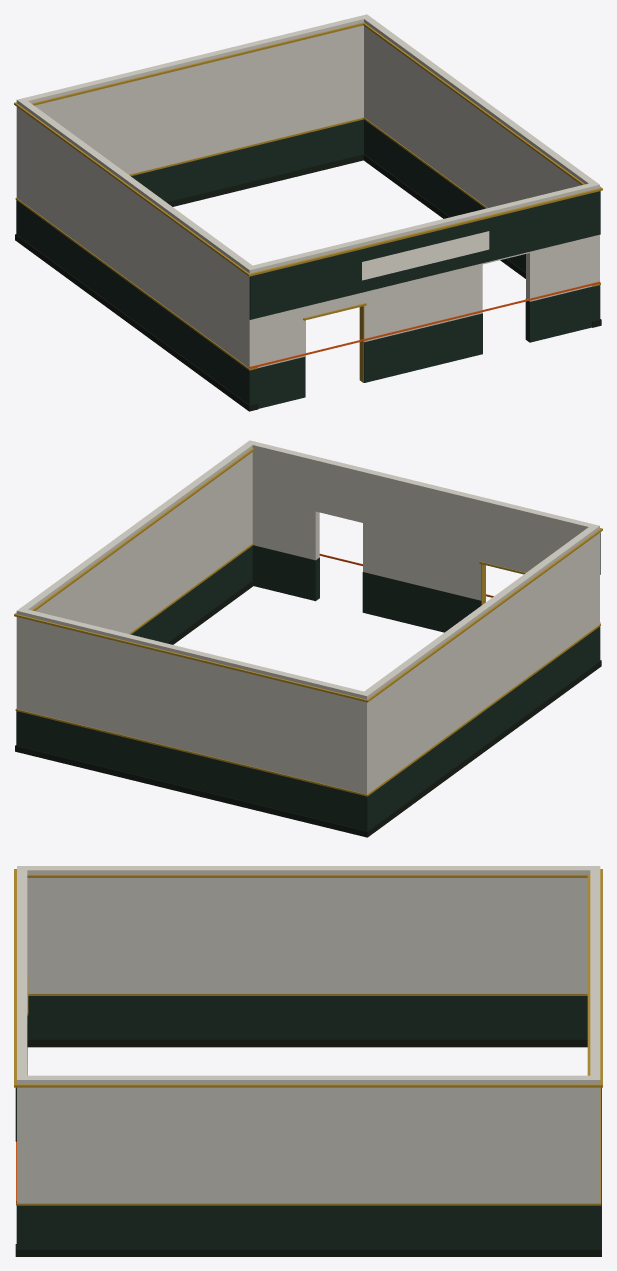
The model's file is wall-set.glb.
The picture shows the model from 3 angles, top to bottom: view 1: azimuth 30°, elevation 25°; view 2: azimuth 150°, elevation 25°; view 3: azimuth 270°, elevation 25°; orthographic projection. The views are drawn at different scales.
Parts seen in each view (by area): view 1: wall_back, wall_left, wall_right, front_fascia, wainscot_left, wainscot_back, front_pier_mid, front_pier_mid_wainscot, front_pier_right, wainscot_right, front_pier_left, front_pier_right_wainscot (+14 smaller); view 2: wall_back, wall_left, wall_right, wainscot_back, front_pier_mid, wainscot_left, front_header, front_pier_right, front_pier_mid_wainscot, wainscot_right, front_pier_right_wainscot, plinth_back (+9 smaller); view 3: wall_right, wall_left, wainscot_right, wainscot_left, plinth_left, plinth_right, wall_back, cornice_right, cornice_left, front_header, cap_rail_right, cap_rail_left (+4 smaller).
Part boxes in pixels (x1,y1,x2,y2): wall_back: (17,14,370,174); wall_left: (16,98,256,368); wall_right: (363,15,599,282); front_fascia: (249,191,600,319); wainscot_left: (16,200,256,404); wainscot_back: (16,119,363,234); front_pier_mid: (361,211,482,341); front_pier_mid_wainscot: (364,313,482,382); front_pier_right: (526,182,599,301); wainscot_right: (364,120,600,315); front_pier_left: (245,254,304,367); front_pier_right_wainscot: (525,285,600,342); wall_back: (16,608,371,794); wall_left: (360,524,599,794); wall_right: (20,440,255,633); wainscot_back: (16,711,371,830); front_pier_mid: (363,469,484,600); wainscot_left: (365,626,600,829); front_header: (248,441,544,565); front_pier_right: (249,441,319,560); front_pier_mid_wainscot: (362,572,481,632); wainscot_right: (131,546,252,642); front_pier_right_wainscot: (252,545,319,601); plinth_back: (15,745,372,837); wall_right: (17,1075,600,1203); wall_left: (17,866,600,993); wainscot_right: (16,1205,600,1248); wainscot_left: (27,996,587,1039); plinth_left: (27,1039,587,1047); plinth_right: (15,1244,601,1256); wall_back: (590,866,600,1203); cornice_right: (14,1079,602,1087); cornice_left: (14,869,602,877); front_header: (17,899,27,1143); cap_rail_right: (16,1201,601,1205); cap_rail_left: (28,993,587,995).
Bounding box in the file's own units: 10 × 3.8 × 11.51.
